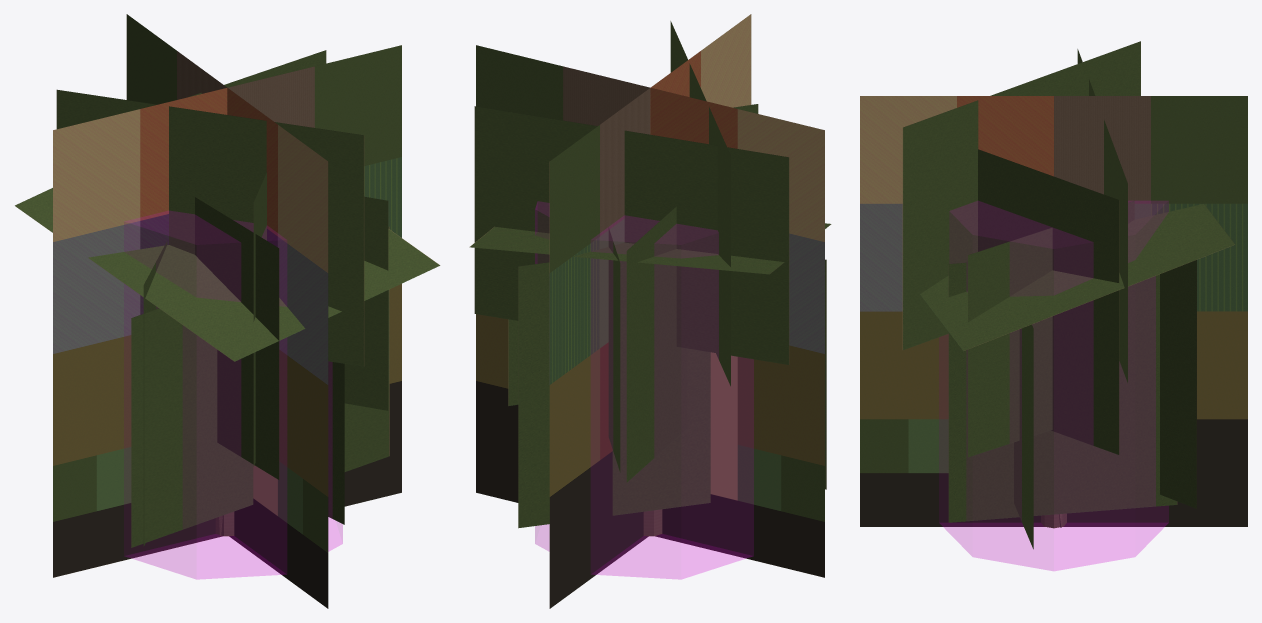
File: creosote_med.dae
The picture shows the model from 3 angles, left to right: view 1: azimuth 30°, elevation 25°; view 2: azimuth 150°, elevation 25°; view 3: azimuth 270°, elevation 25°; orthographic projection. The views are drawn at different scales.
Parts seen in each view (by area): view 1: creosote_med_a50, creosote_med_a800, creosote_med_a200, Colmesh_bush-1; view 2: creosote_med_a50, creosote_med_a800, creosote_med_a200, Colmesh_bush-1; view 3: creosote_med_a800, creosote_med_a50, Colmesh_bush-1, creosote_med_a200.
Boxes of the visible parts, <box> form: creosote_med_a50: <box>53,14,401,608</box>; creosote_med_a800: <box>15,50,440,547</box>; creosote_med_a200: <box>17,50,436,546</box>; Colmesh_bush-1: <box>124,211,342,579</box>; creosote_med_a50: <box>476,14,824,608</box>; creosote_med_a800: <box>470,21,831,536</box>; creosote_med_a200: <box>471,22,830,527</box>; Colmesh_bush-1: <box>535,202,753,579</box>; creosote_med_a800: <box>902,41,1234,549</box>; creosote_med_a50: <box>860,96,1247,526</box>; Colmesh_bush-1: <box>939,201,1168,570</box>; creosote_med_a200: <box>902,42,1234,548</box>.
Bounding box in the file's own units: 1.3 × 1.3 × 1.59.
2 materials, 1 textured.
